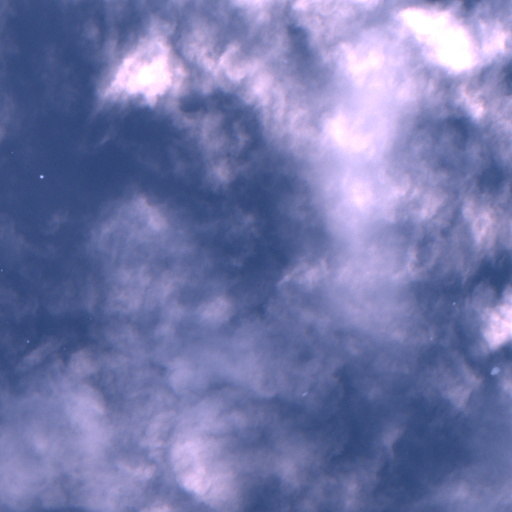Iceberg: (490, 367, 499, 375), (39, 174, 43, 178), (1, 269, 2, 271), (453, 302, 454, 304), (27, 341, 28, 342)
